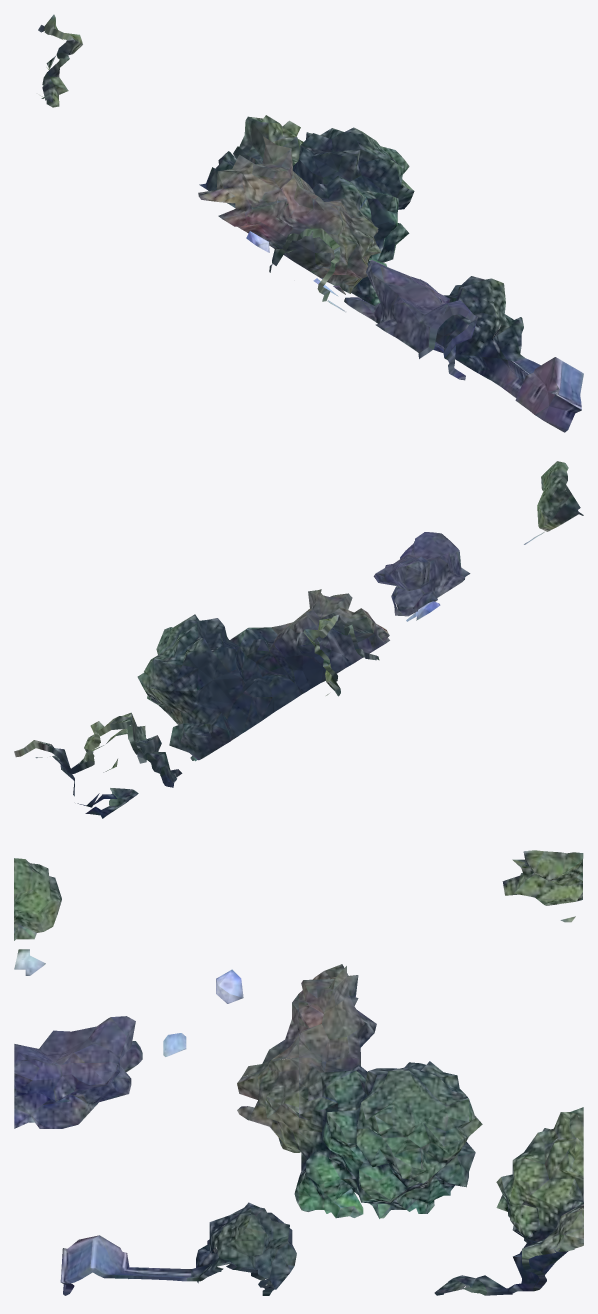
File: AJVsH2ym8Y3WQYygmvODaxmrGQS71R04BiSij6y1aIVGGJzorhR28cWjWRBdjtn5iV6OprmzwT5yN_9WkyoPQpLtVFx3d5CVRunxcAtpeP9d5UXP84JGyxhsDm7tcnYehJIwrKzIuybJVugeAPkgvY4IKcHLgFiky1ct9N2XqHk5WKmg1sxrbdv4u4chWMGEEQ.glb
The picture shows the model from 3 angles, top to bottom: view 1: azimuth 30°, elevation 25°; view 2: azimuth 150°, elevation 25°; view 3: azimuth 270°, elevation 25°; orthographic projection. The views are drawn at different scales.
Size of the model in its own units: 36.57 by 28.52 by 47.03.
1 material, 1 textured.
